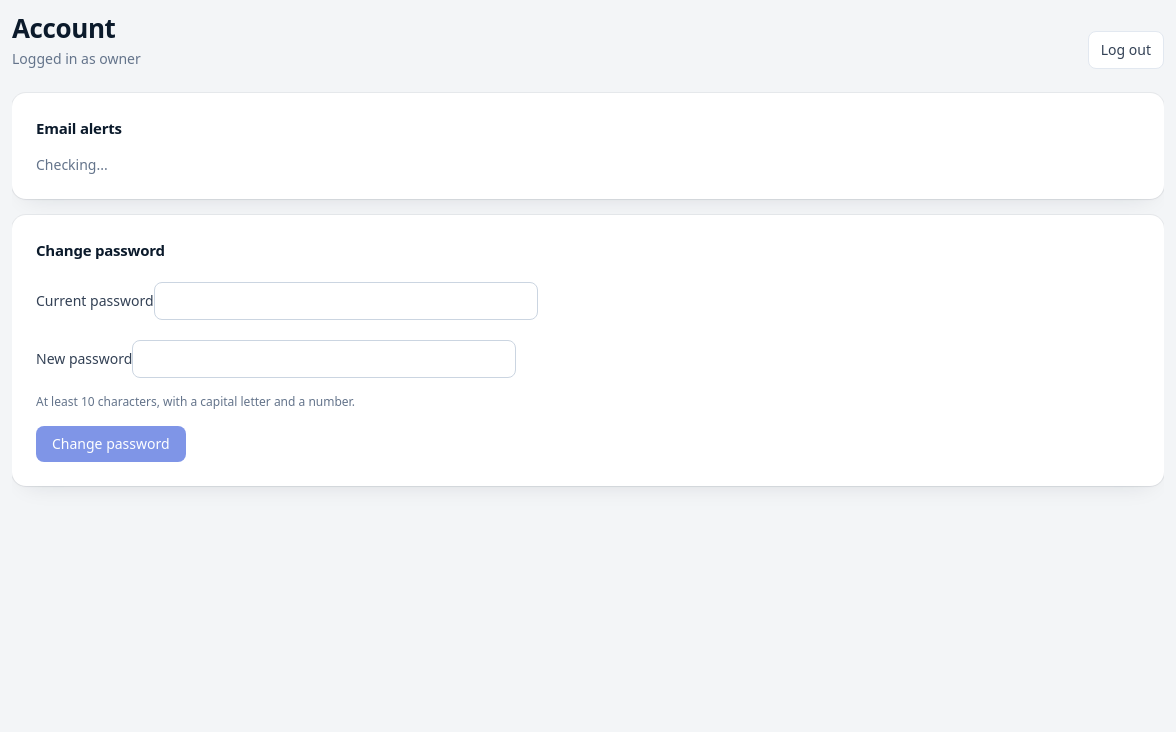
Test case: account page changes the password
This screenshot has width=1176, height=732.
expect the text "Logged in as owner" is shown: met, box [12,48,141,68]
In the password field labelled "Current password": (346, 300) [154,282,538,320], type "Sunshine2026x"
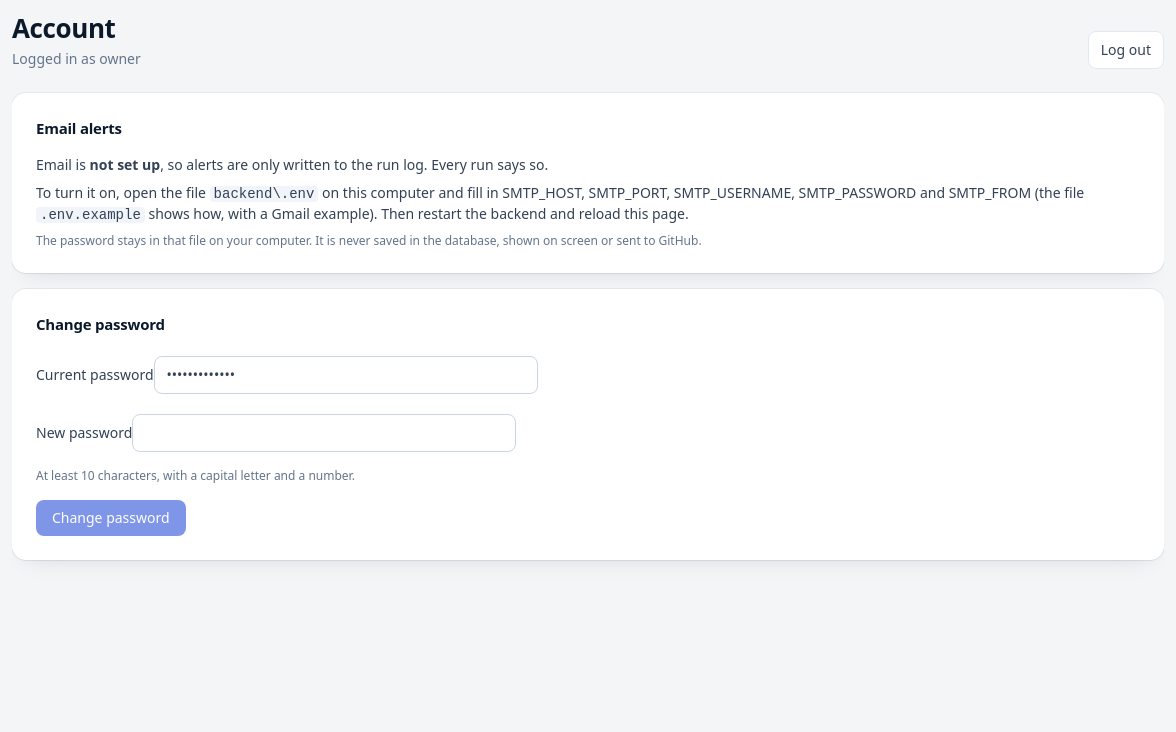
In the password field labelled "New password": (324, 432) [132,414,516,452], type "NewSecret2026x"
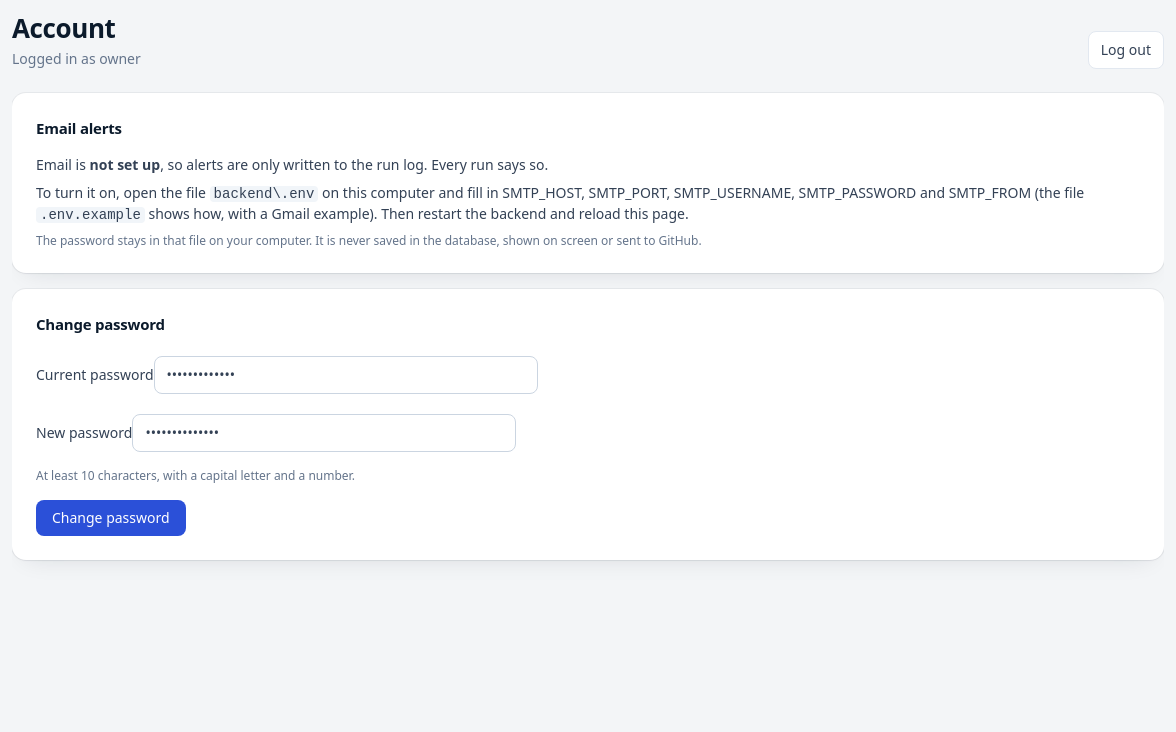
Click the button "Change password": (111, 518) [36,500,186,536]
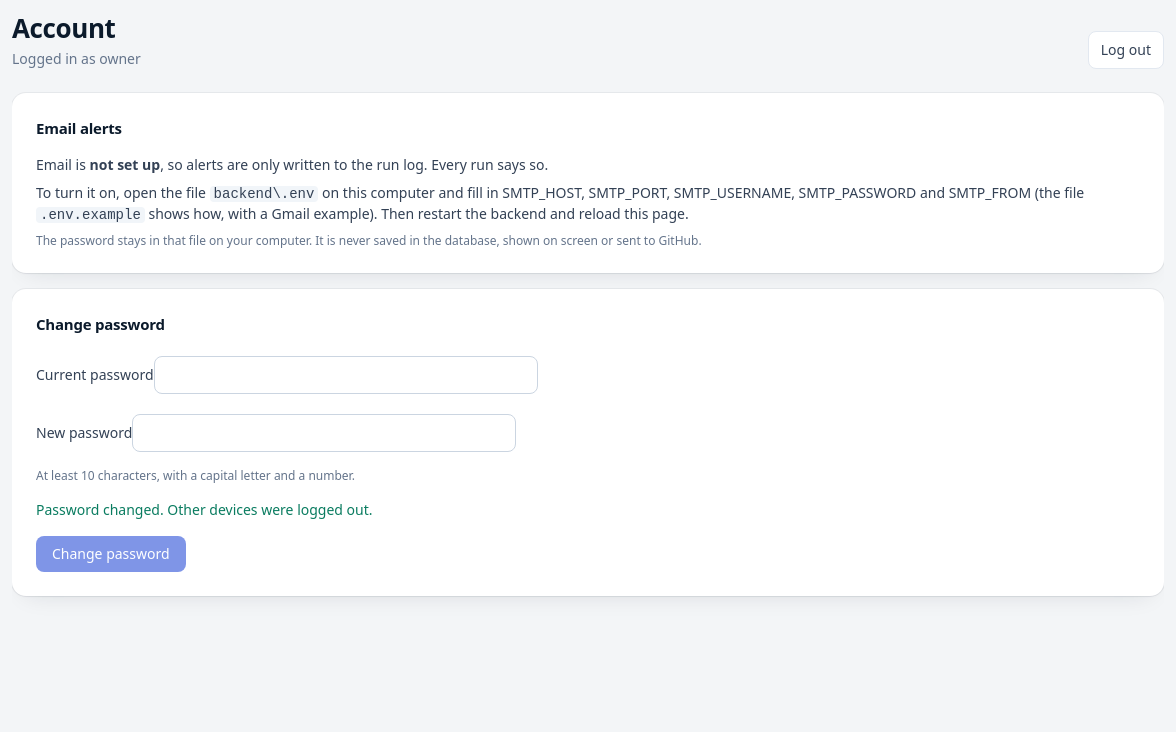
expect the message shows "Password changed": met, box [36,500,372,518]
